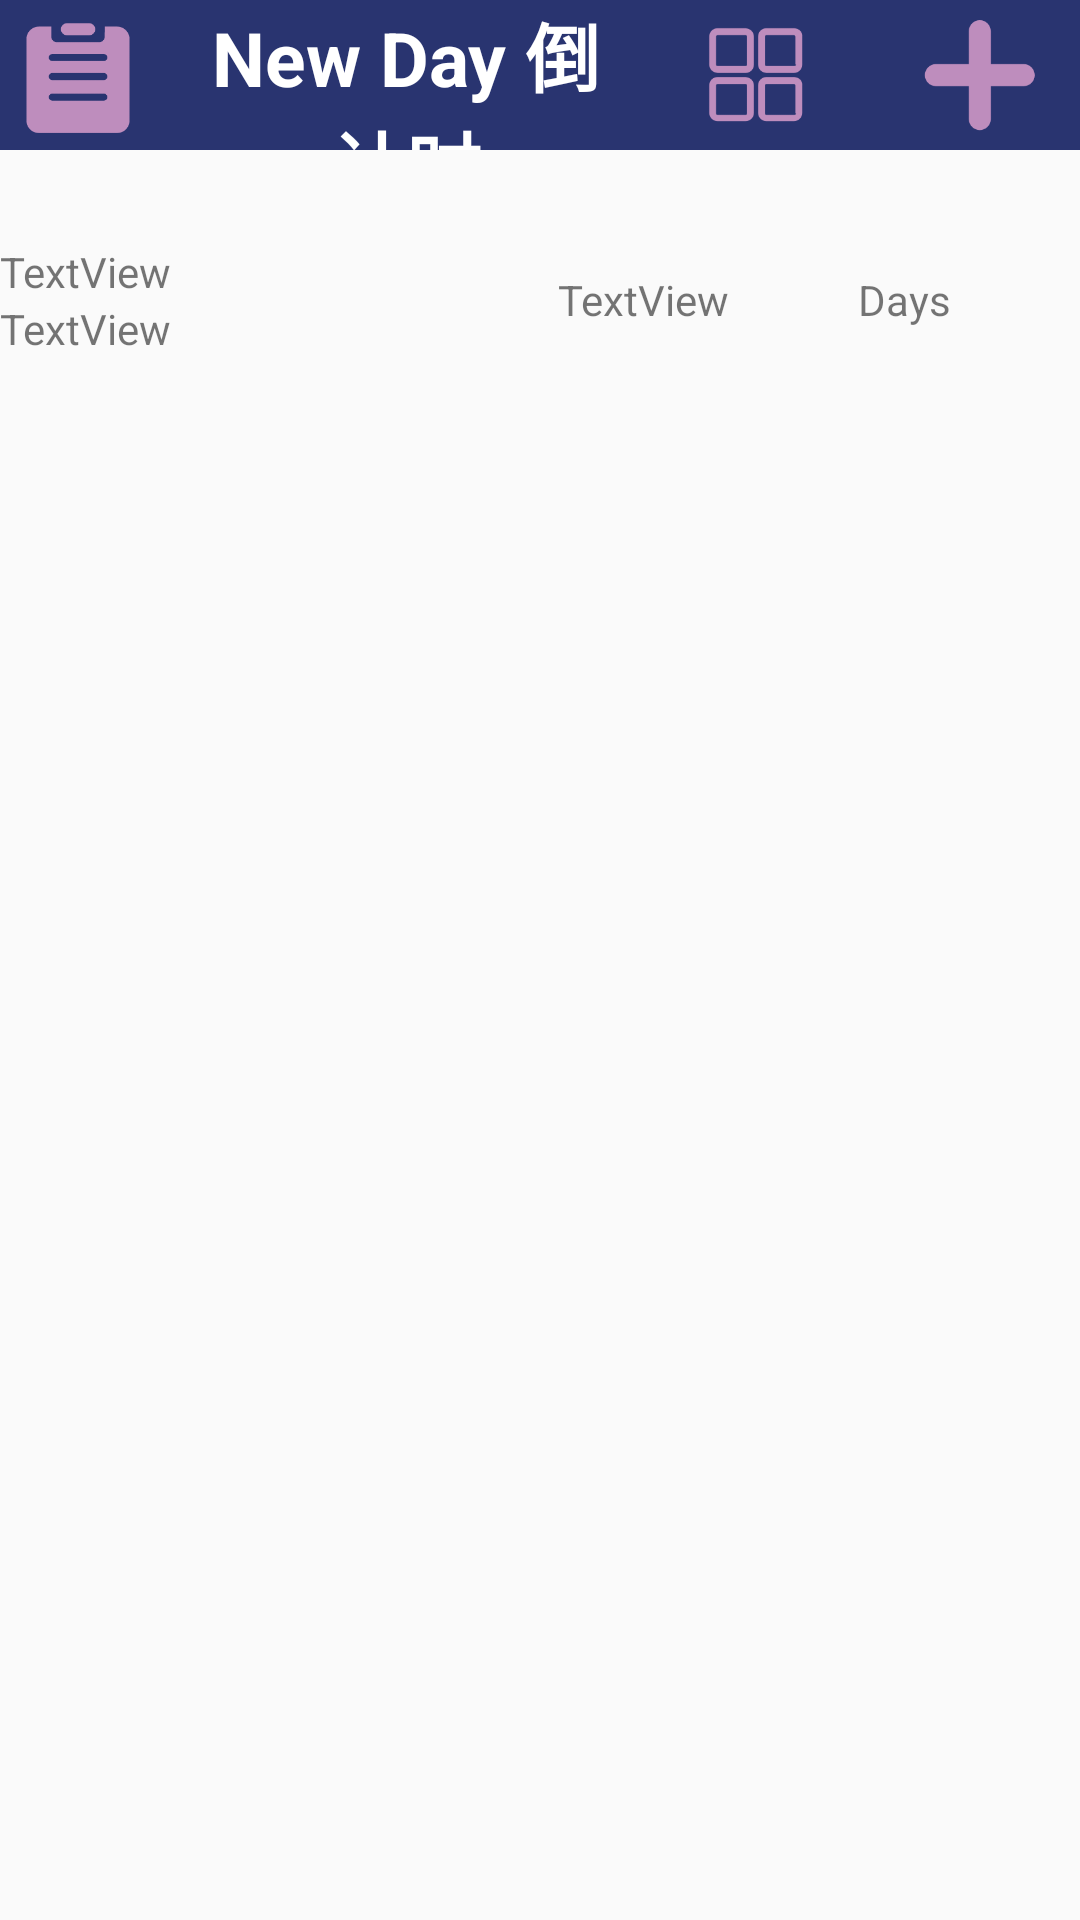

Screen size 1080px×1920px. Icon name, then its box in pixels as box=[x1, y1, x2, y2]:
adddate: box=[924, 20, 1035, 131]
fangge: box=[709, 28, 803, 122]
